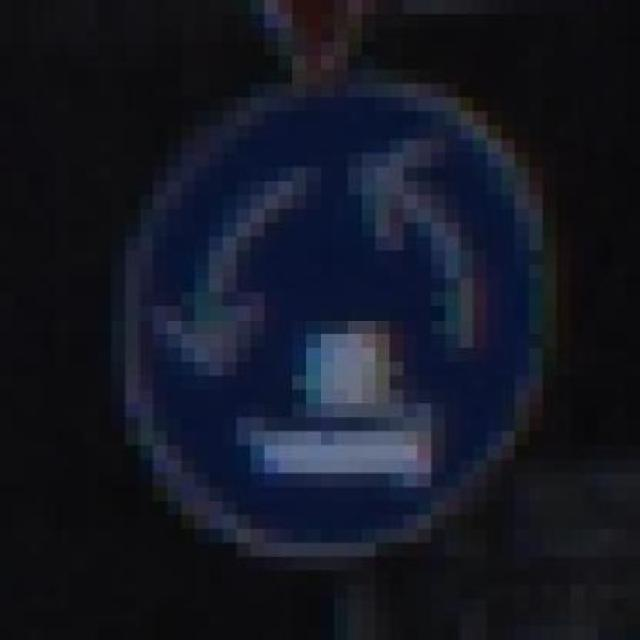Round-About: (70, 56, 598, 598)
